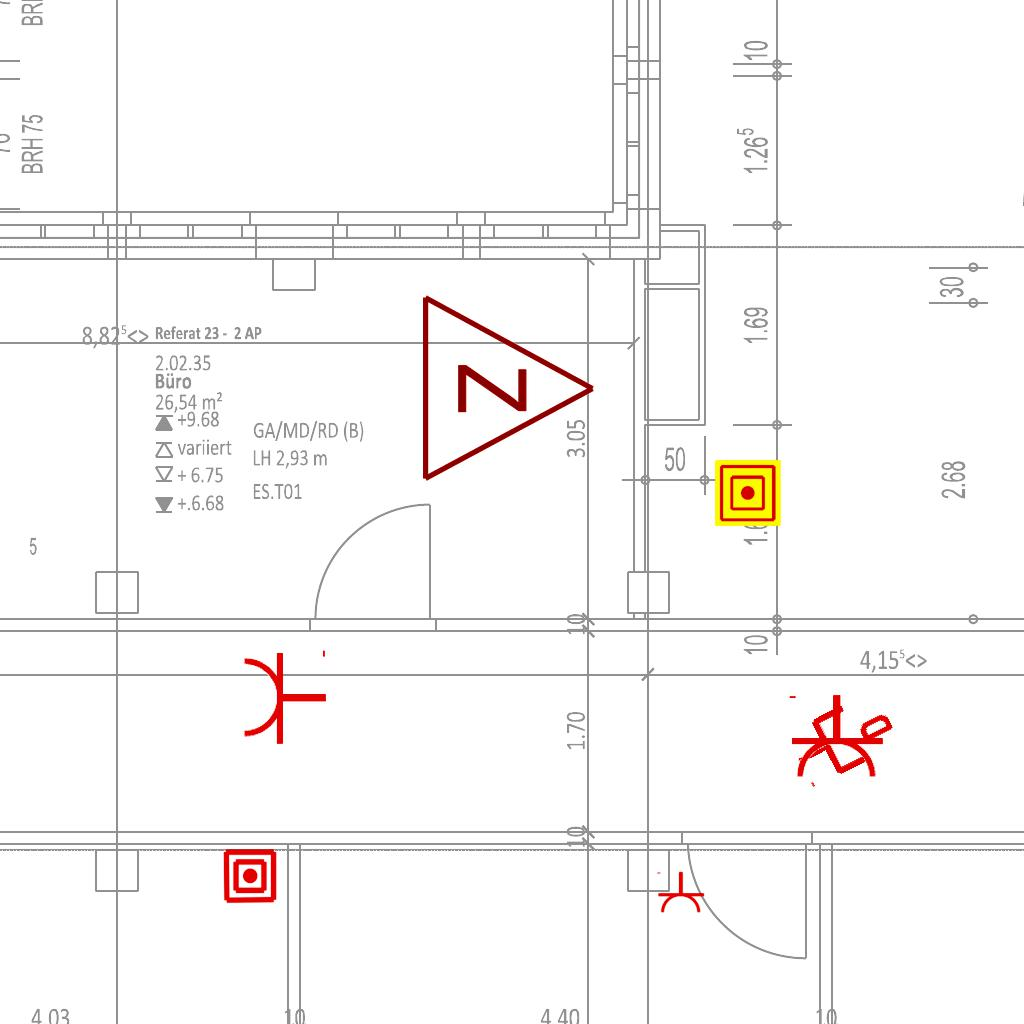Datenanschluss_einfach: (782, 685, 903, 793)
NAM-Nichtautomatischer_Melder: (715, 460, 781, 526), (222, 848, 278, 904)
Schukosteckdose_einfach: (241, 646, 328, 746), (785, 693, 885, 780), (655, 871, 705, 914)
Zimmersignalleuchte: (408, 288, 608, 484)
